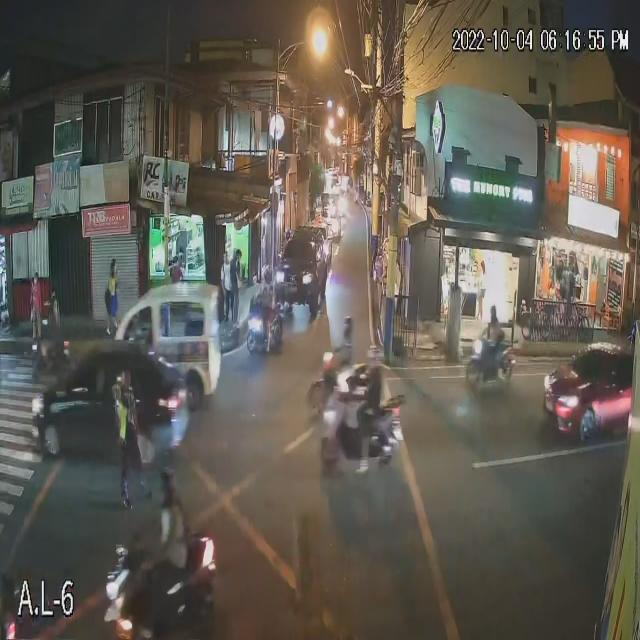motorcycle: (107, 551, 215, 630), (316, 395, 411, 462), (467, 342, 520, 382), (317, 362, 374, 390), (28, 339, 69, 375), (250, 317, 289, 354)
rider: (160, 510, 188, 590), (370, 364, 384, 418), (488, 324, 498, 369), (341, 338, 351, 363)
